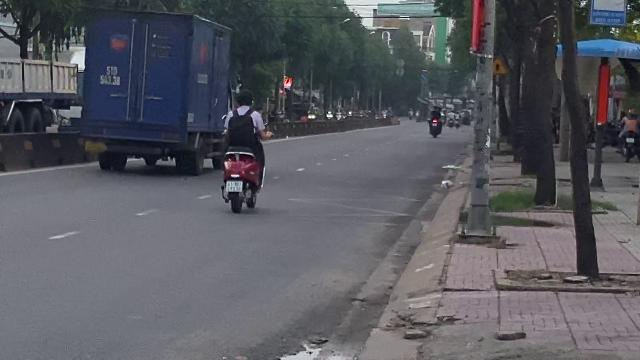licenseplate: (226, 181, 242, 192)
motorcyclist: (216, 88, 268, 212)
nohelmet: (233, 89, 253, 111)
